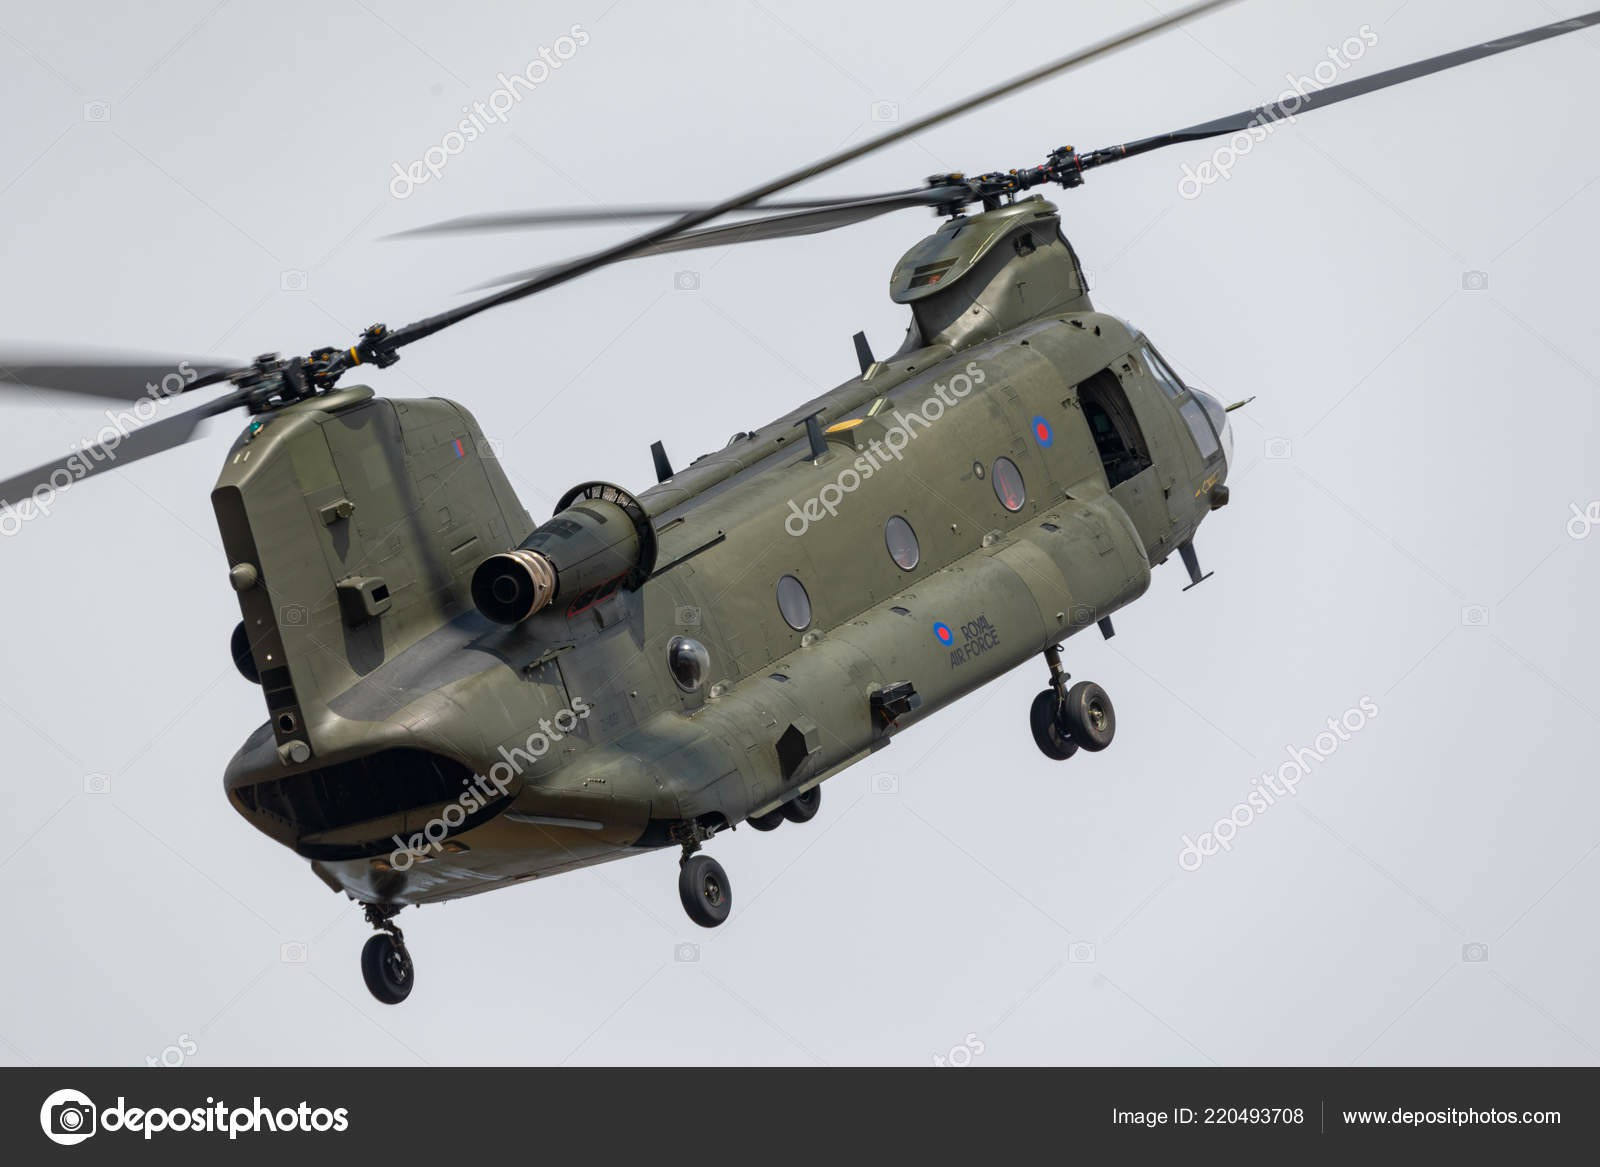chinook: (164, 122, 1325, 1033)
